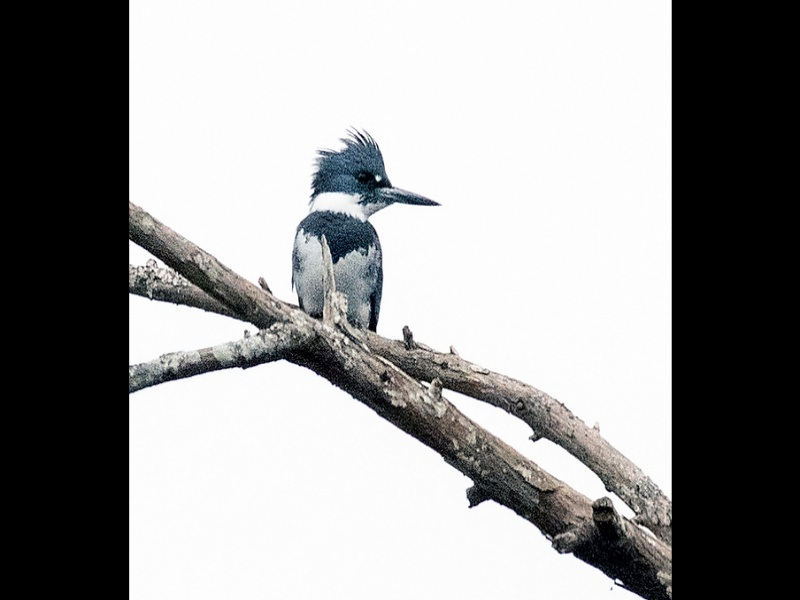kingfisher: (291, 127, 444, 326)
